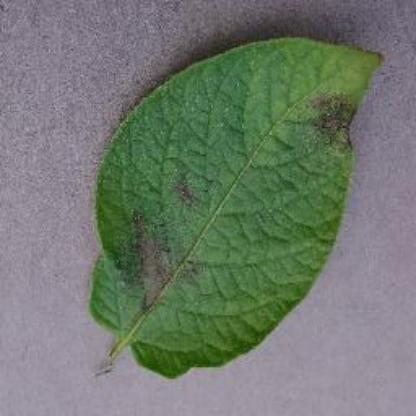Late-Blight: (87, 31, 387, 382)
